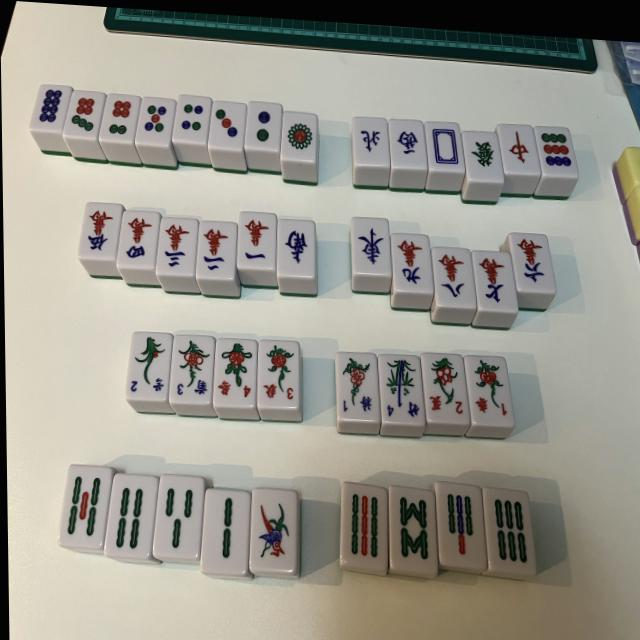bai: (425, 122, 464, 173)
east: (350, 216, 391, 278)
f1: (335, 350, 381, 423)
f2: (125, 331, 175, 403)
f3: (169, 335, 216, 406)
f4: (378, 354, 425, 426)
fa: (461, 130, 503, 183)
ff1: (463, 354, 512, 427)
ff2: (422, 352, 471, 425)
ff3: (259, 338, 302, 408)
ff4: (214, 339, 260, 411)
m1: (238, 210, 279, 271)
m2: (195, 219, 238, 281)
m3: (156, 214, 200, 277)
m4: (117, 208, 163, 270)
m5: (76, 200, 124, 261)
m6: (509, 233, 556, 293)
m7: (471, 250, 518, 313)
m8: (433, 248, 477, 311)
m9: (393, 234, 434, 295)
north: (353, 115, 390, 166)
s1: (247, 487, 298, 575)
s2: (199, 487, 252, 577)
s3: (153, 474, 207, 563)
s4: (104, 473, 162, 566)
s5: (56, 464, 114, 556)
s6: (481, 486, 535, 579)
s7: (435, 482, 488, 573)
s8: (387, 486, 437, 576)
s9: (339, 481, 390, 574)
south: (276, 217, 316, 279)
t1: (280, 111, 317, 164)
t2: (247, 101, 285, 152)
t3: (208, 101, 247, 152)
t4: (172, 96, 212, 146)
t5: (135, 97, 176, 149)
t6: (100, 93, 142, 145)
t7: (61, 90, 105, 141)
t8: (27, 84, 72, 136)
t9: (534, 127, 577, 178)
west: (389, 119, 428, 171)
zhong: (499, 124, 542, 177)
